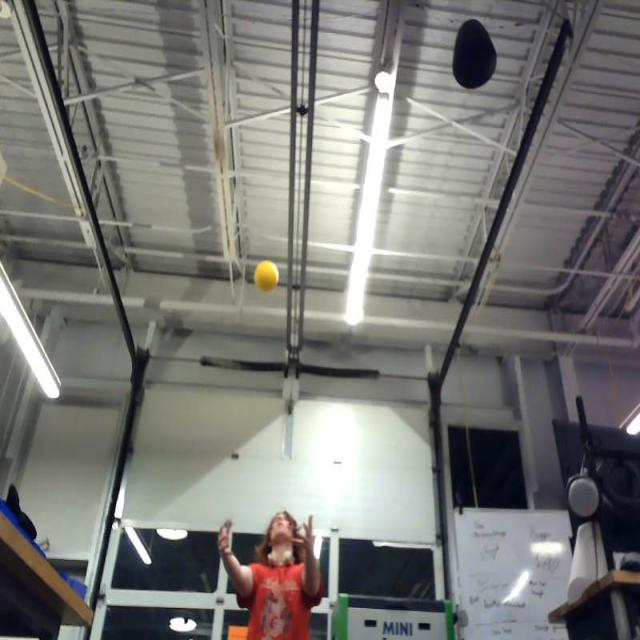Fuel: (255, 261, 278, 291)
